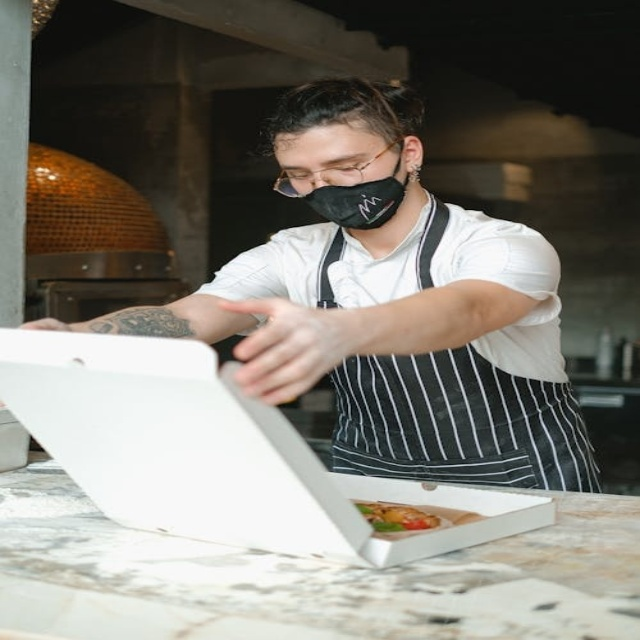Gafas: (274, 139, 400, 196)
Mascara: (288, 149, 409, 229)
Sin_guantes: (216, 294, 357, 405)
